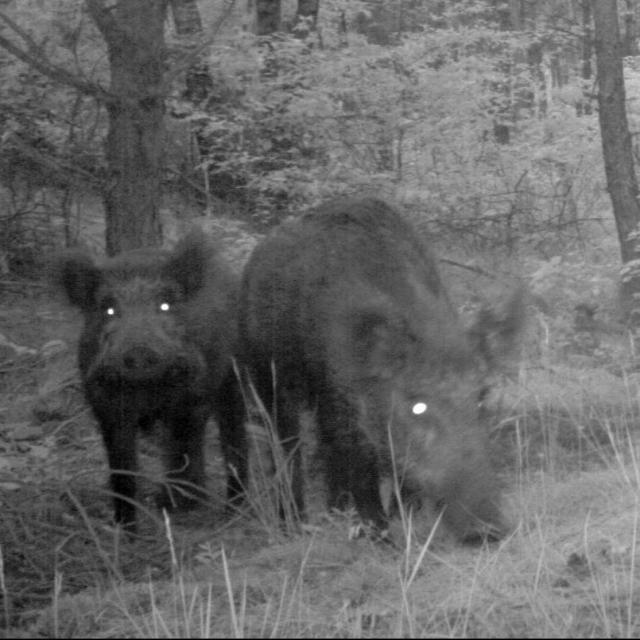pig: (239, 180, 543, 552), (29, 186, 232, 544)
